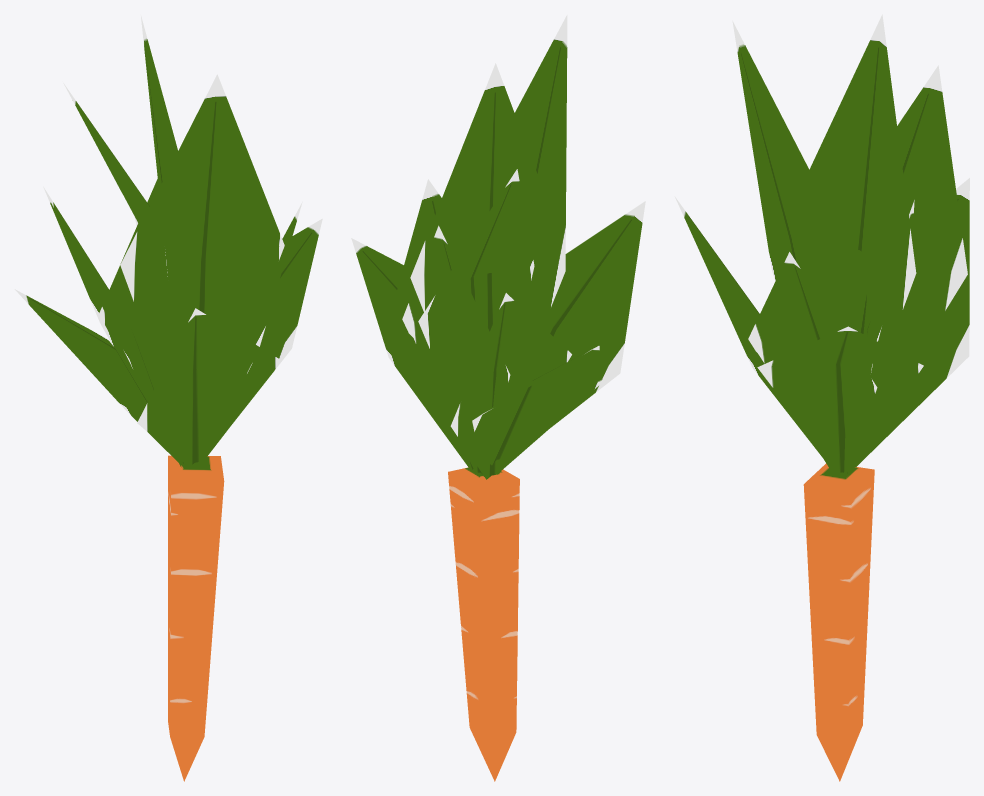
Rendered from PT_Carrot_01.fbx.
3 renders of one model, left to right at view 1: azimuth 30°, elevation 25°; view 2: azimuth 150°, elevation 25°; view 3: azimuth 270°, elevation 25°, orthographic. The views are drawn at different scales.
Parts seen in each view (by area): view 1: PT_Carrot_01_LOD0; view 2: PT_Carrot_01_LOD0; view 3: PT_Carrot_01_LOD0.
Boxes of the visible parts, <box> form: PT_Carrot_01_LOD0: <box>14,16,322,781</box>; PT_Carrot_01_LOD0: <box>351,15,645,781</box>; PT_Carrot_01_LOD0: <box>674,14,969,781</box>.
Size of what is drawn, in the model's own units: 38.98 by 100 by 35.49.
